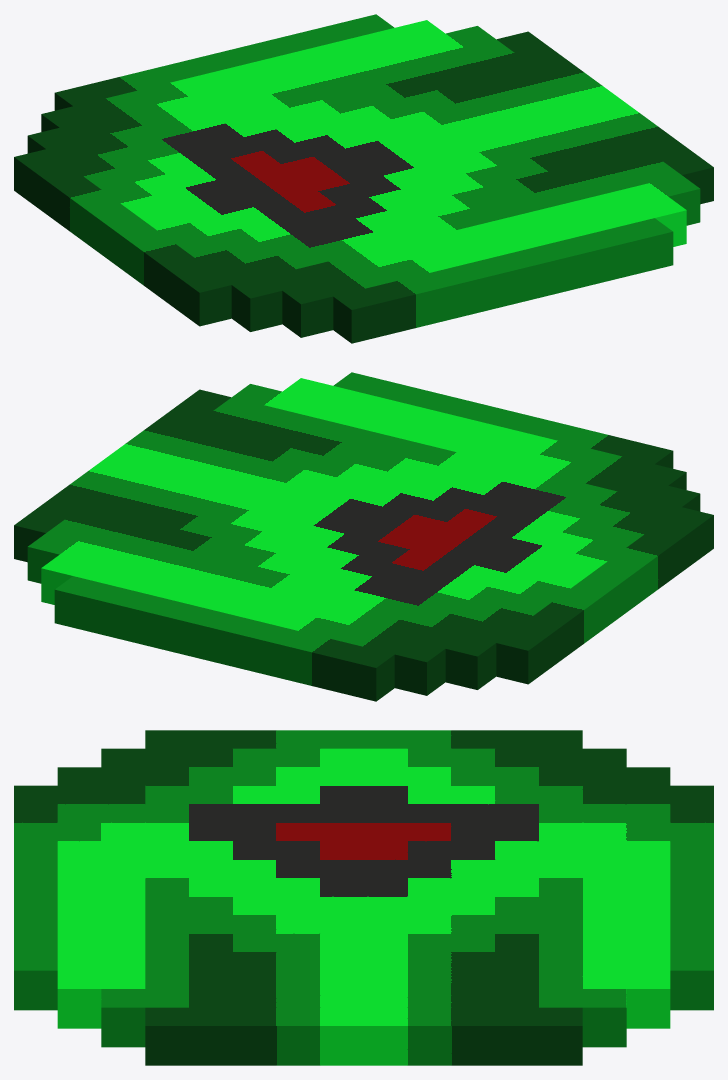
Rendered from MoneyCoinGREEN.glb.
3 renders of one model, top to bottom at view 1: azimuth 30°, elevation 25°; view 2: azimuth 150°, elevation 25°; view 3: azimuth 270°, elevation 25°, orthographic. The views are drawn at different scales.
Parts seen in each view (by area): view 1: Untitled; view 2: Untitled; view 3: Untitled.
Part boxes in pixels (<box>): Untitled: <box>14,14,713,343</box>; Untitled: <box>14,372,713,701</box>; Untitled: <box>14,730,713,1065</box>.
Bounding box in the file's own units: 1.6 × 0.1 × 1.6.
Materials: 1 (1 with a texture image).
